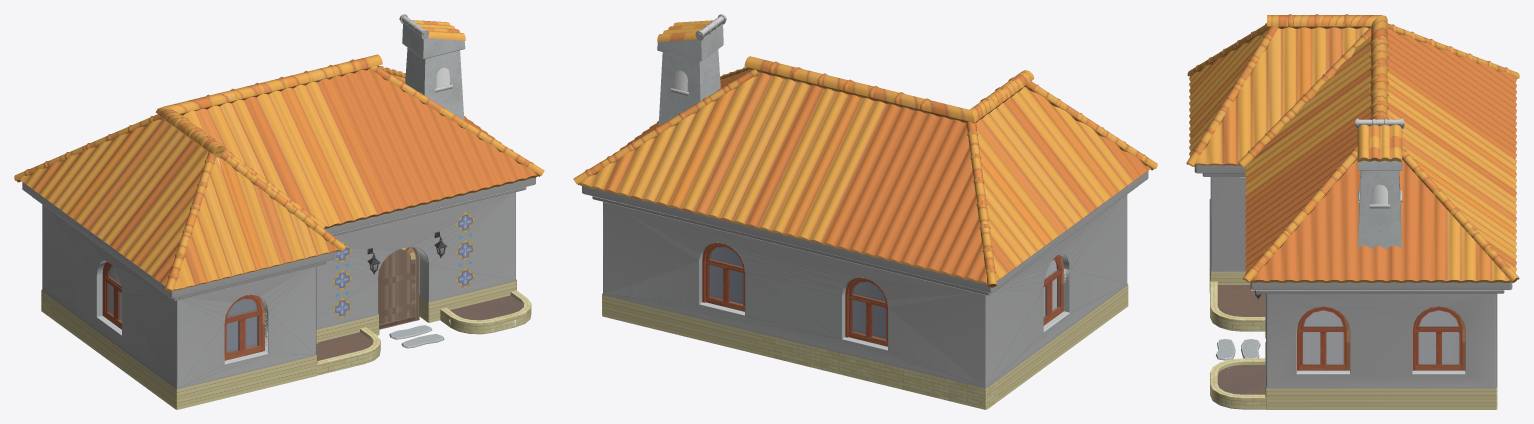
Rendered from objects_un_t02house02.gltf.
The picture shows the model from 3 angles, left to right: view 1: azimuth 30°, elevation 25°; view 2: azimuth 150°, elevation 25°; view 3: azimuth 270°, elevation 25°; orthographic projection. The views are drawn at different scales.
Visible parts, largest first — view 1: nomerge_roof_shape:objects_un_t02house02_roof01, nomerge_wall_shape:objects_un_t02house02_wall01, um_objects_un_t02house02_model_lod2Shape:objects_un_t02house (×4), um_objects_un_t02house02_model_lod0Shape:objects_un_t02house (×3), um_objects_un_t02house02_model_lod1Shape:objects_un_t02house (×4); view 2: nomerge_roof_shape:objects_un_t02house02_roof01, nomerge_wall_shape:objects_un_t02house02_wall01, um_objects_un_t02house02_model_lod0Shape:objects_un_t02house (×3), um_objects_un_t02house02_model_lod2Shape:objects_un_t02house (×2), um_objects_un_t02house02_model_lod1Shape:objects_un_t02house (×2); view 3: nomerge_roof_shape:objects_un_t02house02_roof01, nomerge_wall_shape:objects_un_t02house02_wall01, um_objects_un_t02house02_model_lod2Shape:objects_un_t02house (×3), um_objects_un_t02house02_model_lod0Shape:objects_un_t02house (×3), um_objects_un_t02house02_model_lod1Shape:objects_un_t02house (×3).
Boxes of the visible parts, x1,y1,x2,y2 form: nomerge_roof_shape:objects_un_t02house02_roof01: (14, 14, 544, 291); nomerge_wall_shape:objects_un_t02house02_wall01: (22, 23, 535, 409); um_objects_un_t02house02_model_lod2Shape:objects_un_t02house (×4): (102, 211, 522, 360); um_objects_un_t02house02_model_lod0Shape:objects_un_t02house (×3): (109, 67, 535, 352); um_objects_un_t02house02_model_lod1Shape:objects_un_t02house (×4): (105, 84, 523, 357); nomerge_roof_shape:objects_un_t02house02_roof01: (573, 14, 1157, 287); nomerge_wall_shape:objects_un_t02house02_wall01: (582, 24, 1148, 409); um_objects_un_t02house02_model_lod0Shape:objects_un_t02house (×3): (582, 70, 1069, 409); um_objects_un_t02house02_model_lod2Shape:objects_un_t02house (×2): (705, 243, 1063, 341); um_objects_un_t02house02_model_lod1Shape:objects_un_t02house (×2): (702, 242, 1060, 346); nomerge_roof_shape:objects_un_t02house02_roof01: (1186, 14, 1519, 282); nomerge_wall_shape:objects_un_t02house02_wall01: (1194, 160, 1512, 409); um_objects_un_t02house02_model_lod2Shape:objects_un_t02house (×3): (1217, 285, 1465, 394); um_objects_un_t02house02_model_lod0Shape:objects_un_t02house (×3): (1217, 179, 1511, 394); um_objects_un_t02house02_model_lod1Shape:objects_un_t02house (×3): (1216, 192, 1465, 394).
Size of what is drawn, in the model's own units: 12.61 by 7.59 by 8.5.
12 materials, 10 textured.
